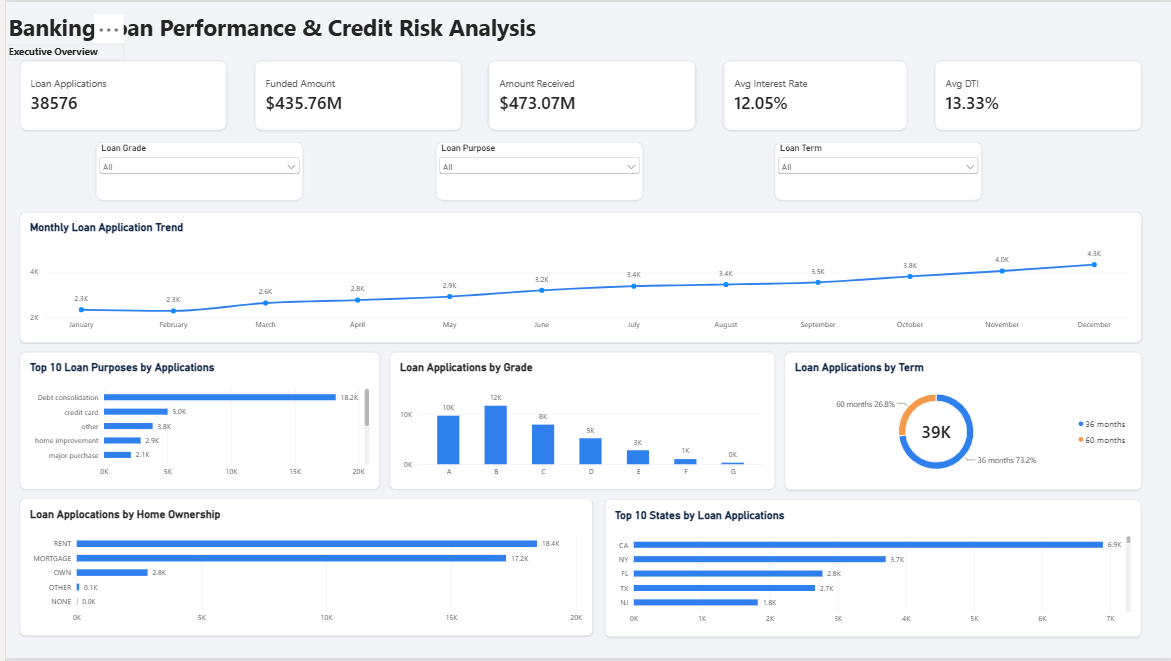

The dashboard page shown, as its layout file describes it:
{"tool":"powerbi","page":{"name":"Loan Performance Overview","canvas":[1920,1080],"ordinal":0},"visuals":[{"type":"textbox","box":[4.6,16,1911.3,54.9],"z":0},{"type":"textbox","box":[4.6,71,190,25.2],"z":1000},{"type":"cardVisual","fields":{"Data":["Financial_Loans.Total Loan Applications"]},"box":[22.9,96.1,341.1,114.4],"z":2000},{"type":"cardVisual","fields":{"Data":["Financial_Loans.Total Funded Amount"]},"box":[409.2,96.1,341.1,114.4],"z":3000},{"type":"cardVisual","fields":{"Data":["Financial_Loans.Total Amount Received"]},"box":[795.4,96.1,341.1,114.4],"z":4000},{"type":"cardVisual","fields":{"Data":["Financial_Loans.Average Interest Rate"]},"box":[1181.7,96.1,302.1,114.4],"z":5000},{"type":"cardVisual","fields":{"Data":["Financial_Loans.Average DTI"]},"box":[1529,96.1,341.1,114.4],"z":6000},{"type":"slicer","fields":{"Values":["Financial_Loans.grade"]},"box":[148.8,230.8,341.1,96.1],"z":7000},{"type":"slicer","fields":{"Values":["Financial_Loans.purpose"]},"box":[707.3,230.8,341.1,96.1],"z":8000},{"type":"slicer","fields":{"Values":["Financial_Loans.term"]},"box":[1265.8,230.8,341.1,96.1],"z":9000},{"type":"lineChart","title":"Monthly Loan Application Trend","fields":{"Category":["Financial_Loans.Issue Month"],"Y":["Financial_Loans.Total Loan Applications"]},"box":[22.9,345.6,1847.2,215.2],"z":10000},{"type":"clusteredBarChart","title":"Top 10 Loan Purposes by  Applications","fields":{"Category":["Financial_Loans.purpose"],"Y":["Financial_Loans.Total Loan Applications"]},"box":[22.9,576.8,592.8,226.6],"z":11000},{"type":"clusteredColumnChart","title":"Loan Applications by Grade","fields":{"Category":["Financial_Loans.grade"],"Y":["Financial_Loans.Total Loan Applications"]},"box":[631.8,576.8,634.1,226.6],"z":12000},{"type":"donutChart","title":"Loan Applications by Term","fields":{"Category":["Financial_Loans.term"],"Y":["Financial_Loans.Total Loan Applications"]},"box":[1281.8,576.8,588,227],"z":12001},{"type":"clusteredBarChart","title":"Loan Applocations by Home Ownership","fields":{"Category":["Financial_Loans.home_ownership"],"Y":["Financial_Loans.Total Loan Applications"]},"box":[22.9,817.2,943.1,226.6],"z":12002},{"type":"clusteredBarChart","title":"Top 10 States by Loan Applications","fields":{"Category":["Financial_Loans.address_state"],"Y":["Financial_Loans.Total Loan Applications"]},"box":[986.6,819.5,883.6,226.6],"z":12003}]}

Visuals, with their boxes in screenshot pixels (x1, y1, x2, y2), scaled from the page's 1920x1080 canvas onto the 1171x661 screenshot:
textbox: {"x1": 3, "y1": 10, "x2": 1168, "y2": 43}
textbox: {"x1": 3, "y1": 43, "x2": 119, "y2": 59}
cardVisual - Financial_Loans.Total Loan Applications: {"x1": 14, "y1": 59, "x2": 222, "y2": 129}
cardVisual - Financial_Loans.Total Funded Amount: {"x1": 250, "y1": 59, "x2": 458, "y2": 129}
cardVisual - Financial_Loans.Total Amount Received: {"x1": 485, "y1": 59, "x2": 693, "y2": 129}
cardVisual - Financial_Loans.Average Interest Rate: {"x1": 721, "y1": 59, "x2": 905, "y2": 129}
cardVisual - Financial_Loans.Average DTI: {"x1": 933, "y1": 59, "x2": 1141, "y2": 129}
slicer - Financial_Loans.grade: {"x1": 91, "y1": 141, "x2": 299, "y2": 200}
slicer - Financial_Loans.purpose: {"x1": 431, "y1": 141, "x2": 639, "y2": 200}
slicer - Financial_Loans.term: {"x1": 772, "y1": 141, "x2": 980, "y2": 200}
"Monthly Loan Application Trend" lineChart: {"x1": 14, "y1": 212, "x2": 1141, "y2": 343}
"Top 10 Loan Purposes by  Applications" clusteredBarChart: {"x1": 14, "y1": 353, "x2": 376, "y2": 492}
"Loan Applications by Grade" clusteredColumnChart: {"x1": 385, "y1": 353, "x2": 772, "y2": 492}
"Loan Applications by Term" donutChart: {"x1": 782, "y1": 353, "x2": 1140, "y2": 492}
"Loan Applocations by Home Ownership" clusteredBarChart: {"x1": 14, "y1": 500, "x2": 589, "y2": 639}
"Top 10 States by Loan Applications" clusteredBarChart: {"x1": 602, "y1": 502, "x2": 1141, "y2": 640}
